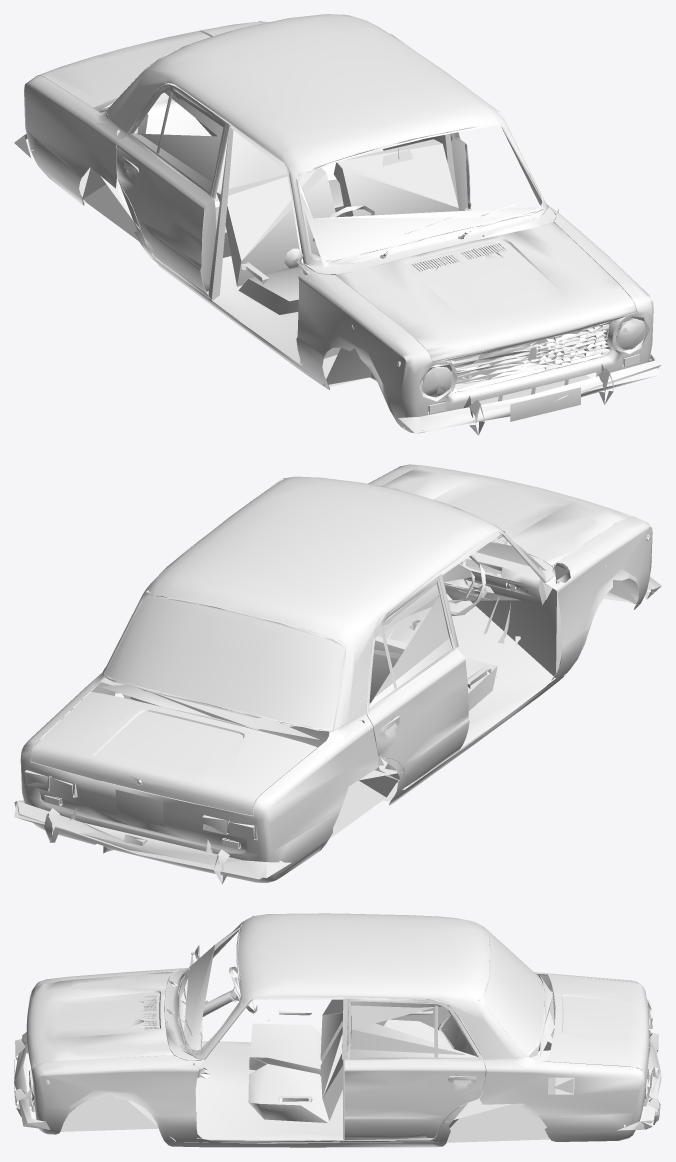
3 renders of one model, top to bottom at view 1: azimuth 30°, elevation 25°; view 2: azimuth 150°, elevation 25°; view 3: azimuth 270°, elevation 25°, orthographic. The views are drawn at different scales.
Bounding box in the file's own units: 1.63 × 1.14 × 4.16.
1 material, 1 textured.
